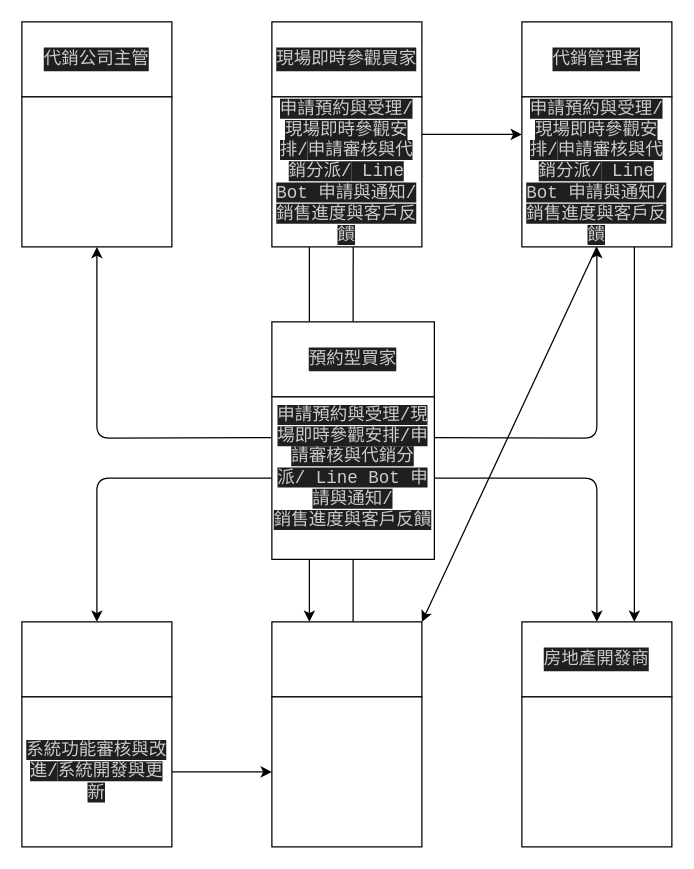
Image size: 694x869. Some labels were removed from this diagram. Each missing label, with the centre of its shape:
Line Bot 使用者: point (346, 659)
申請預約與受理/ 現場即時參觀安排/ 申請審核與代銷分派/ Line Bot 申請與通知: point (346, 771)
申請預約與受理/ 現場即時參觀安排/ 銷售進度與客戶反饋: point (596, 771)
系統功能審核與改進/ 系統開發與更新/ 銷售進度與客戶反饋: point (96, 171)
綻幣軟體設計團隊: point (96, 659)
